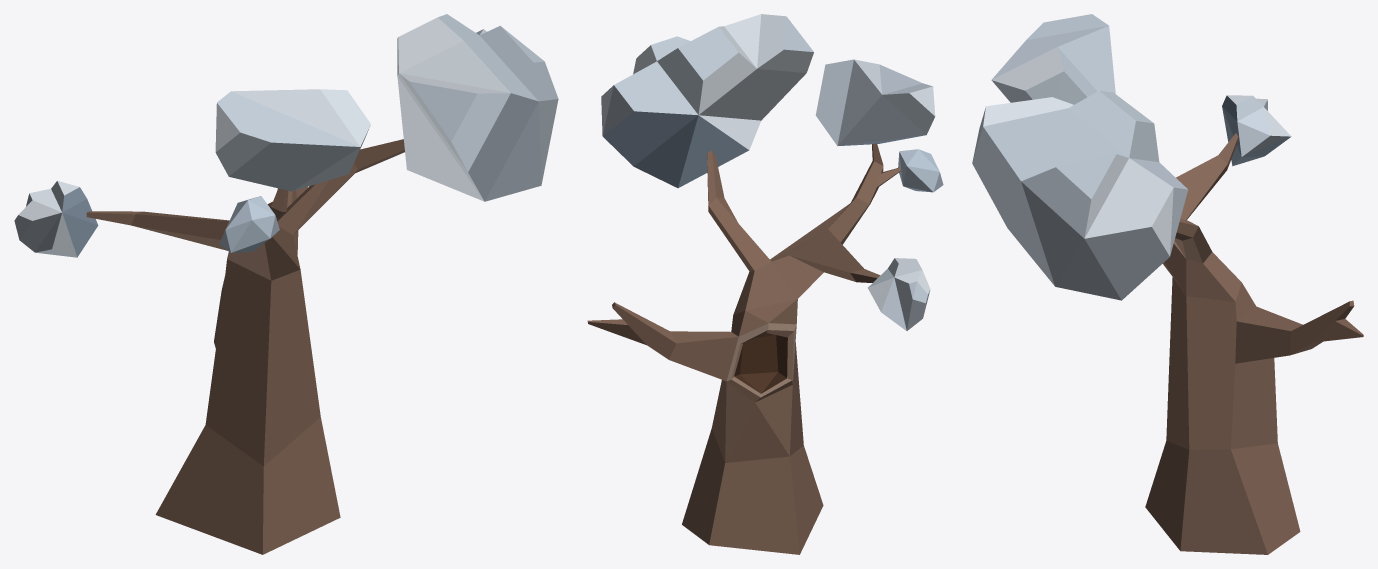
The model's file is TreeWinter1_Alt1.fbx.
3 views of the same model, side by side, from view 1: azimuth 30°, elevation 25°; view 2: azimuth 150°, elevation 25°; view 3: azimuth 270°, elevation 25° (orthographic). The views are drawn at different scales.
Visible parts, largest first — view 1: TreeWinter1_Alt1; view 2: TreeWinter1_Alt1; view 3: TreeWinter1_Alt1.
Boxes of the visible parts, x1,y1,x2,y2 form: TreeWinter1_Alt1: (14,14,558,554); TreeWinter1_Alt1: (587,14,943,554); TreeWinter1_Alt1: (972,14,1363,554).
Bounding box in the file's own units: 1.78 × 1.96 × 1.44.
